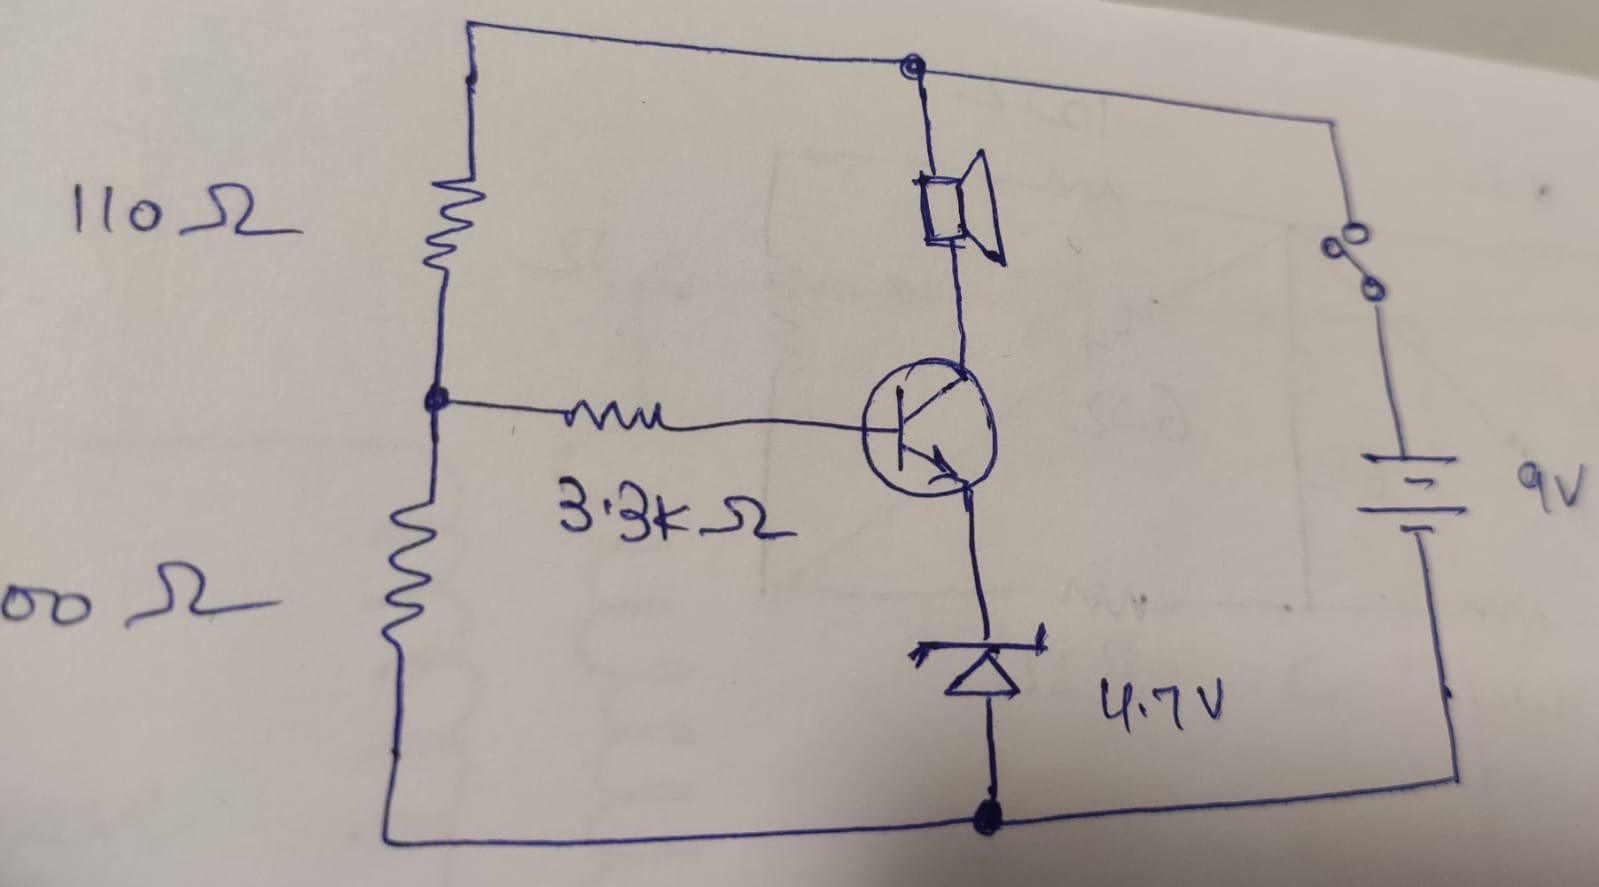diode: (905, 622, 1049, 702)
junction: (968, 788, 1009, 835), (893, 50, 934, 85), (421, 379, 455, 416), (374, 823, 401, 858), (1314, 111, 1345, 142), (1443, 764, 1469, 793), (459, 14, 482, 39)
resistor: (379, 489, 437, 639), (419, 169, 485, 274), (562, 395, 670, 435)
speaker: (917, 147, 1009, 267)
switch: (1316, 218, 1395, 305)
text: (1, 532, 294, 634), (554, 473, 802, 549), (67, 175, 309, 247), (1095, 669, 1228, 736), (1517, 460, 1587, 512)
transistor: (858, 357, 999, 498)
voltage.dc: (1353, 451, 1468, 536)
